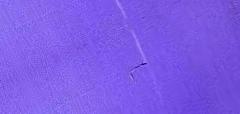snag: (127, 60, 149, 84)
